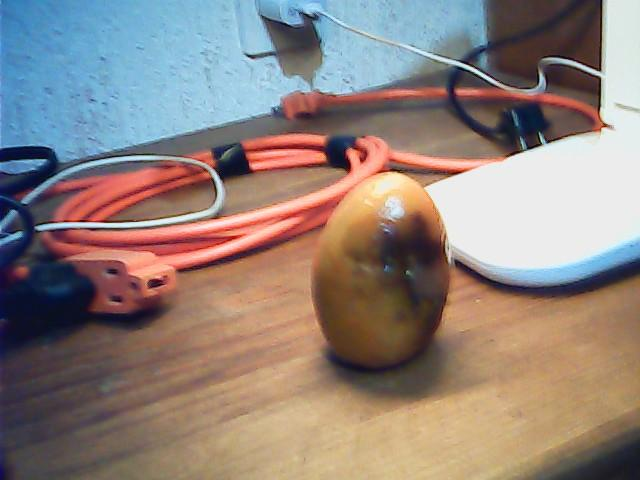defectuoso: (308, 168, 452, 372)
